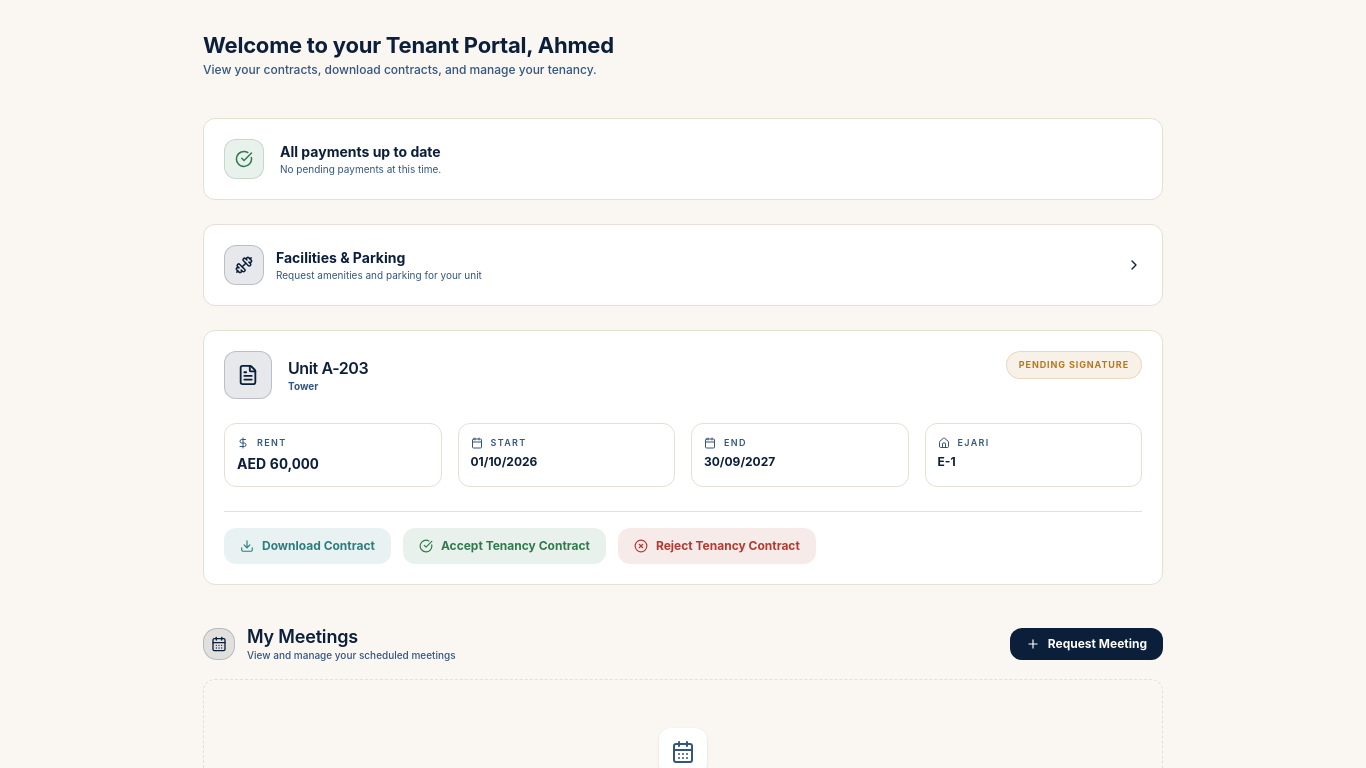
Test: Renter portal — accepted contract › says so when the server refuses a stale version
Click the button "Accept Tenancy Contract" at [504, 546], box [403,528,606,564]
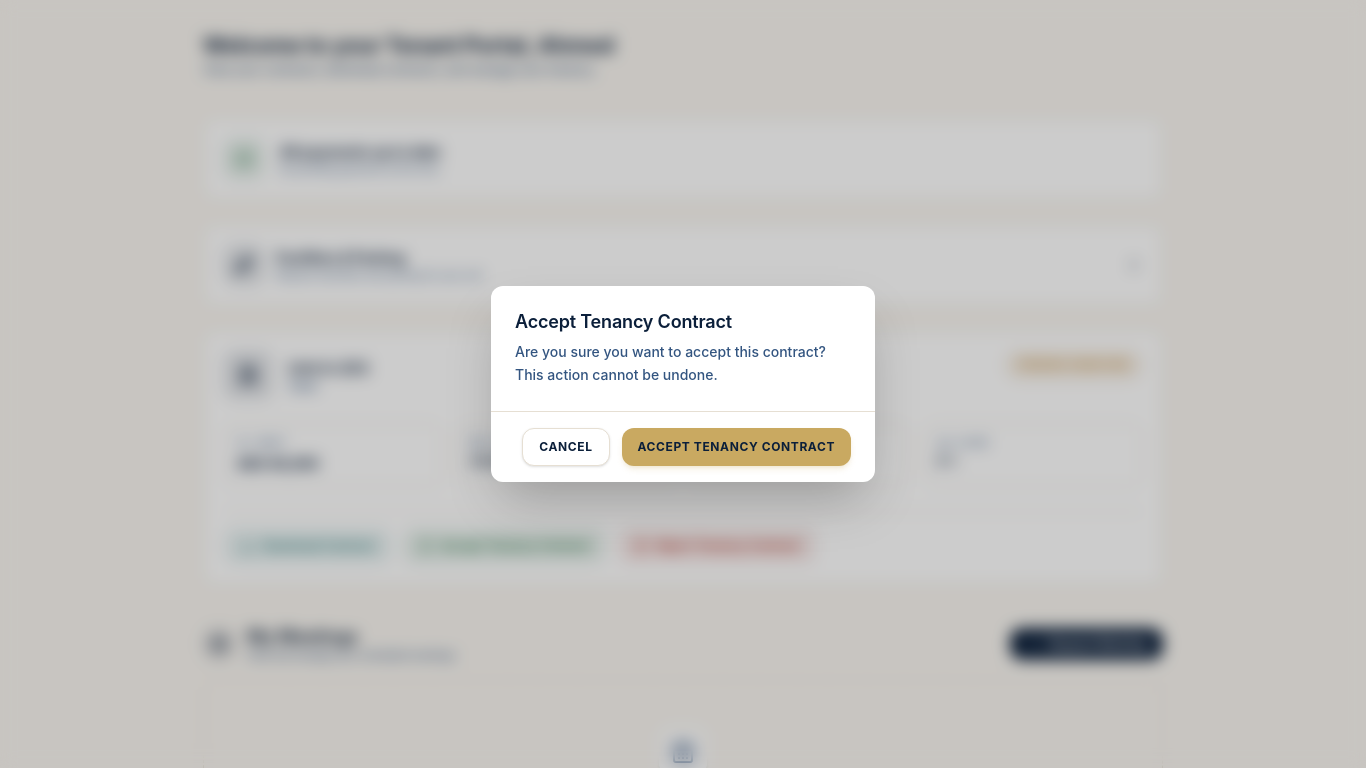
Click the button "Accept Tenancy Contract" at [736, 447], box [622,428,851,466]
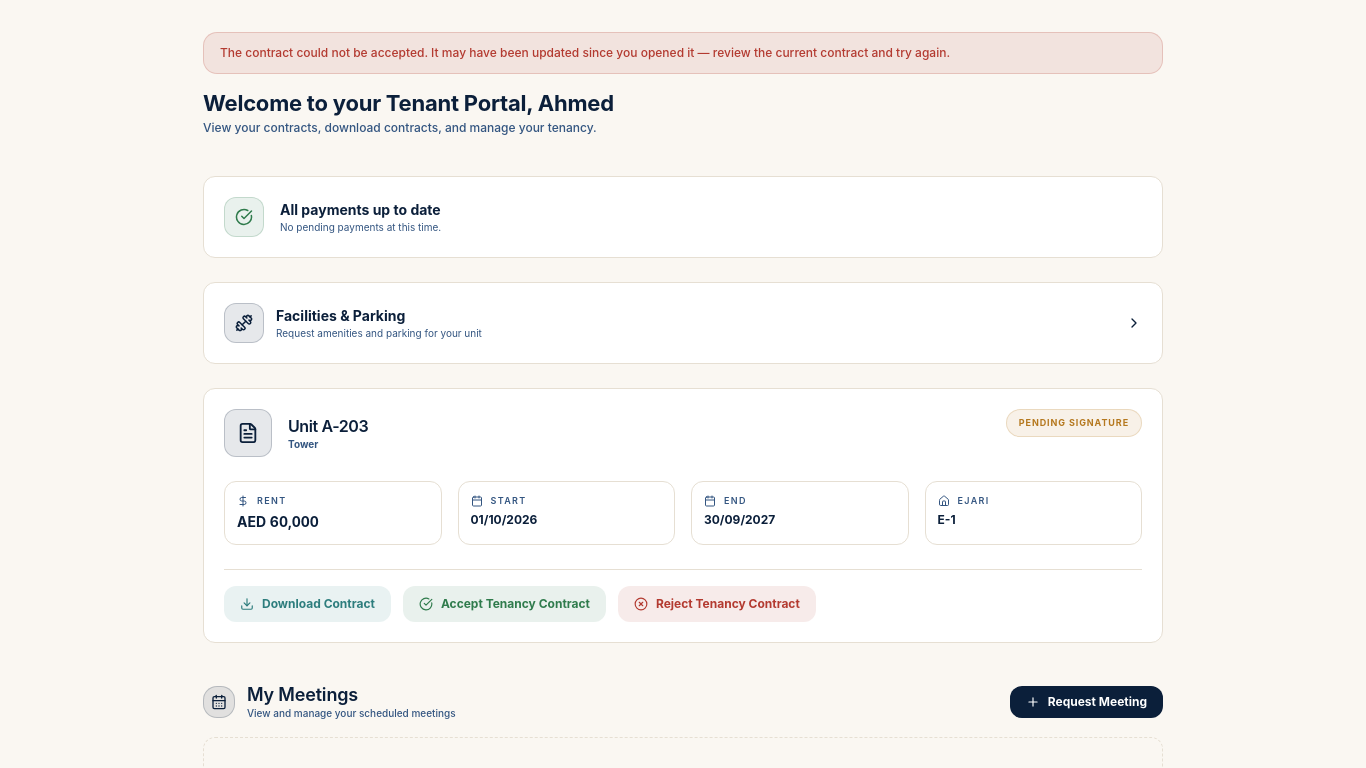
expect the message shows "The contract could not be accepted. It may have been updated since you opened it — review the current contract and try again.": met, box [220,45,950,60]
